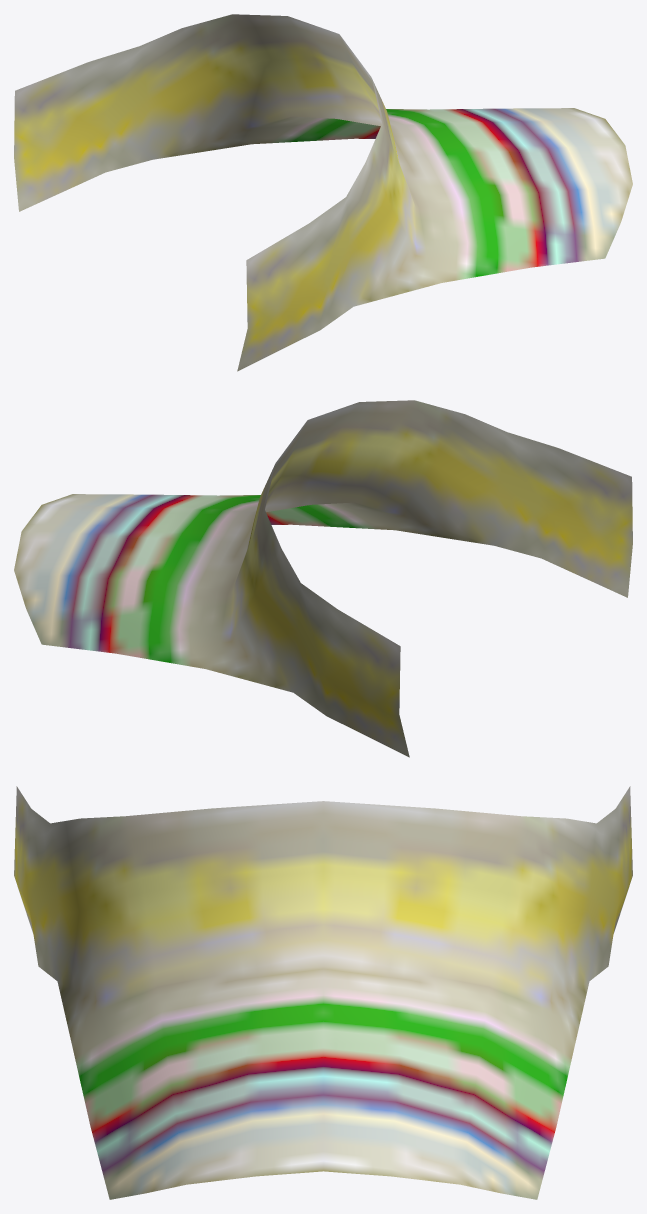
The model's file is hat_0400053.FBX.
3 renders of one model, top to bottom at view 1: azimuth 30°, elevation 25°; view 2: azimuth 150°, elevation 25°; view 3: azimuth 270°, elevation 25°, orthographic. The views are drawn at different scales.
Visible parts, largest first — view 1: hat_0400053; view 2: hat_0400053; view 3: hat_0400053.
Part boxes in pixels (x1,y1,x2,y2): hat_0400053: (14, 14, 632, 371); hat_0400053: (14, 400, 632, 757); hat_0400053: (14, 786, 632, 1199).
Size of the model in its own units: 26.36 by 11.12 by 22.34.
